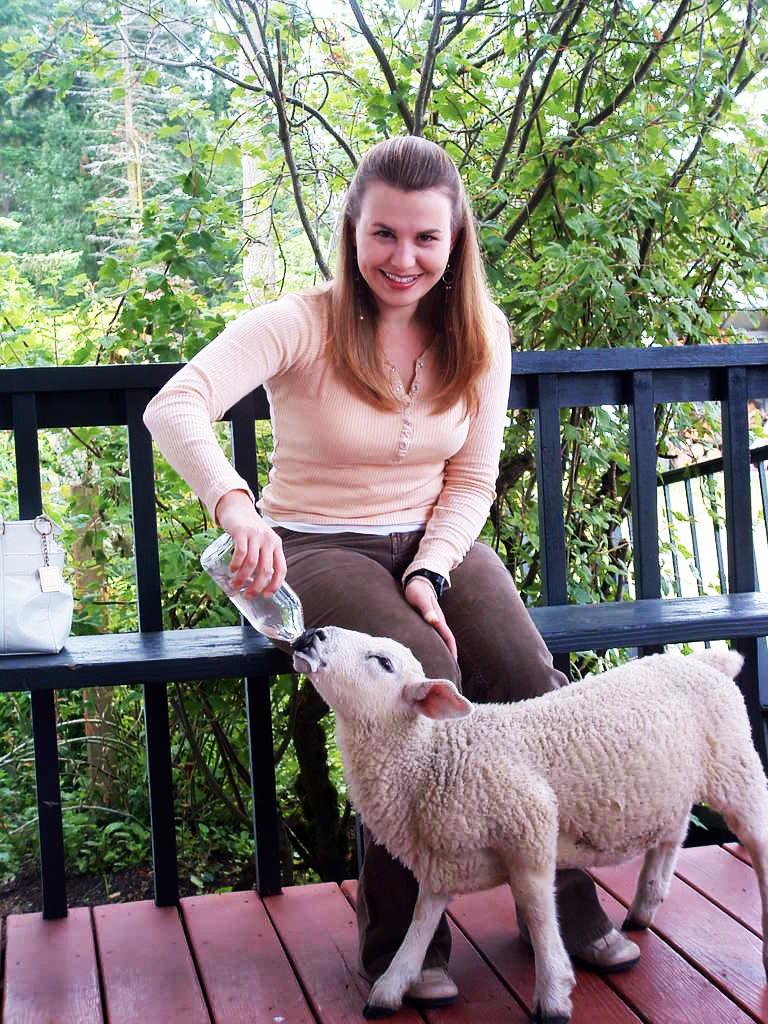Sheep: (292, 628, 768, 1024)
